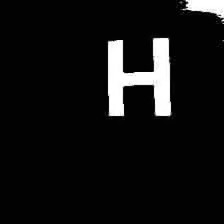LTR_H: (99, 31, 177, 123)
